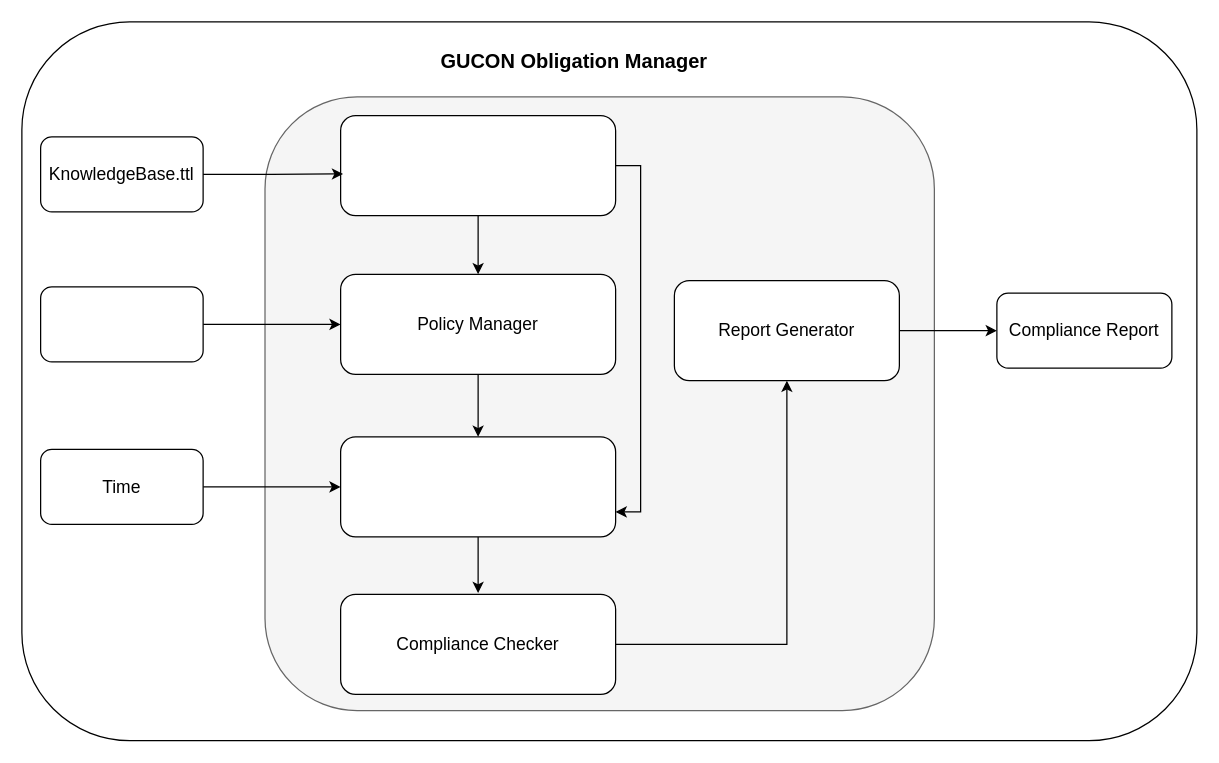
Some shapes in this 1219 by 763 pixel diagram are drawn without their labels. The shapes that lost their labels are listed below. From the top down, each one's box as (x1, y1, x2, y2) in pixels, then its label:
(339, 114, 616, 216): Knowledge Base Manager
(39, 286, 203, 362): Policy.ttl
(339, 436, 616, 537): Obligation State Manager
